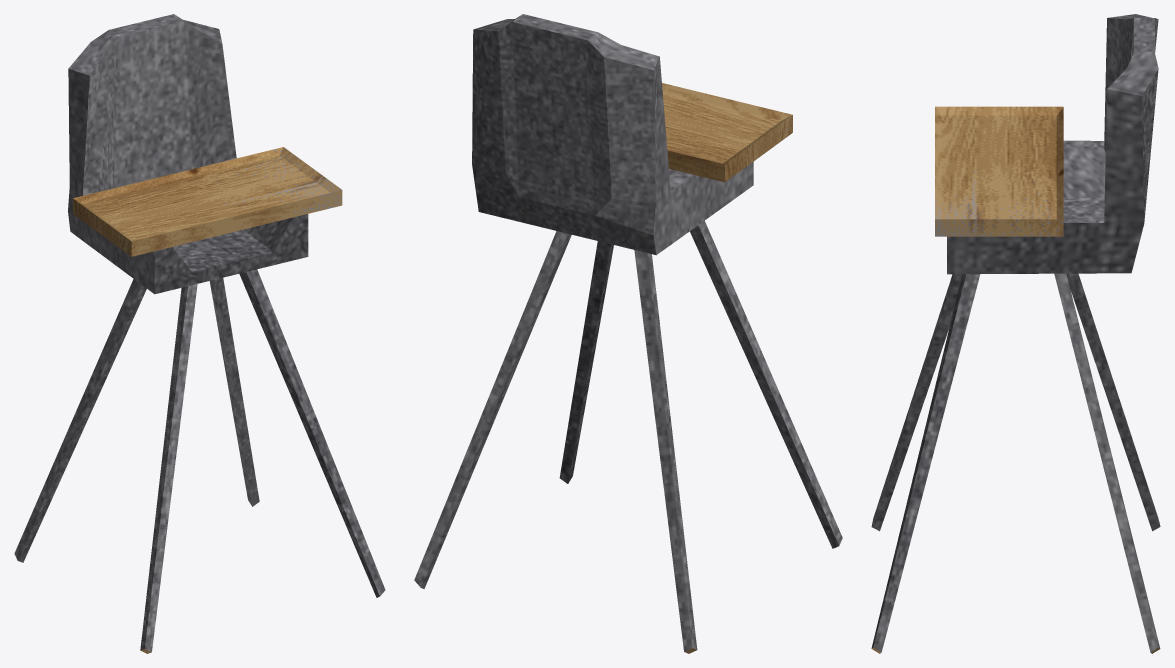
The model's file is highChair.fbx.
3 renders of one model, left to right at view 1: azimuth 30°, elevation 25°; view 2: azimuth 150°, elevation 25°; view 3: azimuth 270°, elevation 25°, orthographic. The views are drawn at different scales.
Parts seen in each view (by area): view 1: Seat, LilTable, Cube.010, Cube.011, Cube.012, Cube.009; view 2: Seat, LilTable, Cube.012, Cube.011, Cube.009, Cube.010; view 3: Seat, LilTable, Cube.010, Cube.009, Cube.011, Cube.012.
Boxes of the visible parts, box(x1,y1,x2,y2) form: Seat: box(68, 14, 308, 294); LilTable: box(73, 147, 342, 256); Cube.010: box(239, 269, 385, 597); Cube.011: box(140, 284, 197, 653); Cube.012: box(14, 279, 146, 562); Cube.009: box(209, 277, 259, 506); Seat: box(472, 14, 753, 255); LilTable: box(662, 83, 792, 182); Cube.012: box(634, 250, 697, 653); Cube.011: box(690, 220, 842, 548); Cube.009: box(414, 231, 571, 588); Cube.010: box(559, 241, 613, 483); Seat: box(947, 14, 1158, 274); LilTable: box(935, 106, 1063, 236); Cube.010: box(871, 274, 980, 653); Cube.009: box(1054, 273, 1160, 653); Cube.011: box(871, 274, 962, 531); Cube.012: box(1066, 273, 1160, 531).
Size of the model in its own units: 57.75 by 116 by 54.51.
